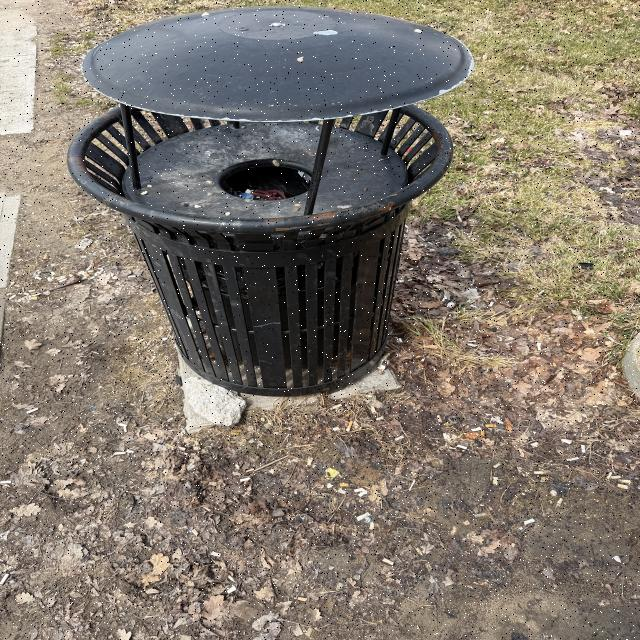Dustbin: (66, 6, 474, 399)
